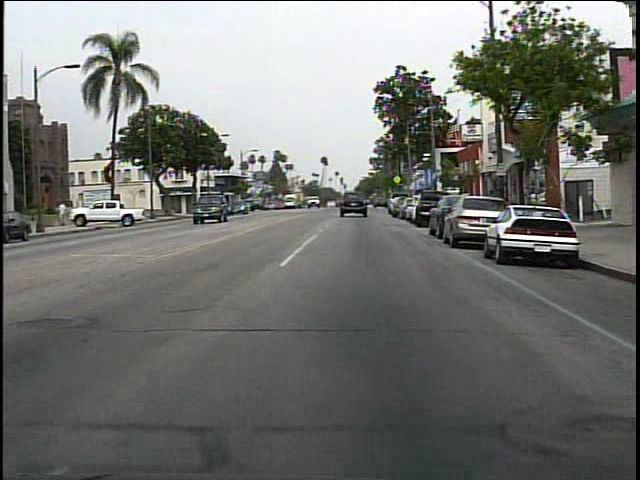person: (57, 198, 72, 229), (368, 191, 375, 220)
